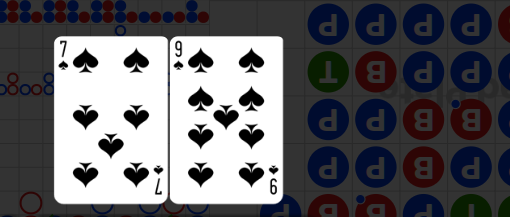7S: (57, 39, 70, 73)
9S: (267, 163, 280, 196)
